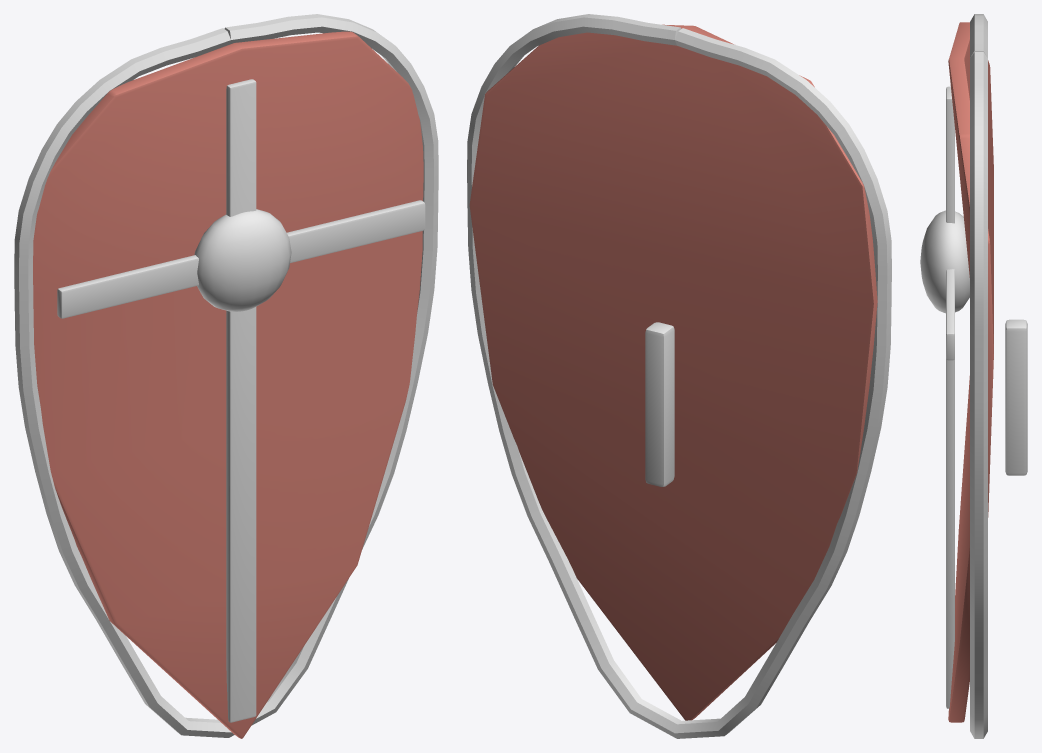
File: kite_shield.glb
3 views of the same model, side by side, from view 1: azimuth 30°, elevation 25°; view 2: azimuth 150°, elevation 25°; view 3: azimuth 270°, elevation 25° (orthographic). The views are drawn at different scales.
Parts seen in each view (by area): view 1: kite_shield; view 2: kite_shield; view 3: kite_shield.
Boxes of the visible parts, box(x1,y1,x2,y2) form: kite_shield: box(14, 14, 438, 738); kite_shield: box(467, 14, 891, 738); kite_shield: box(920, 14, 1027, 738).
Size of the model in its own units: 0.6218 by 1 by 0.1435.
